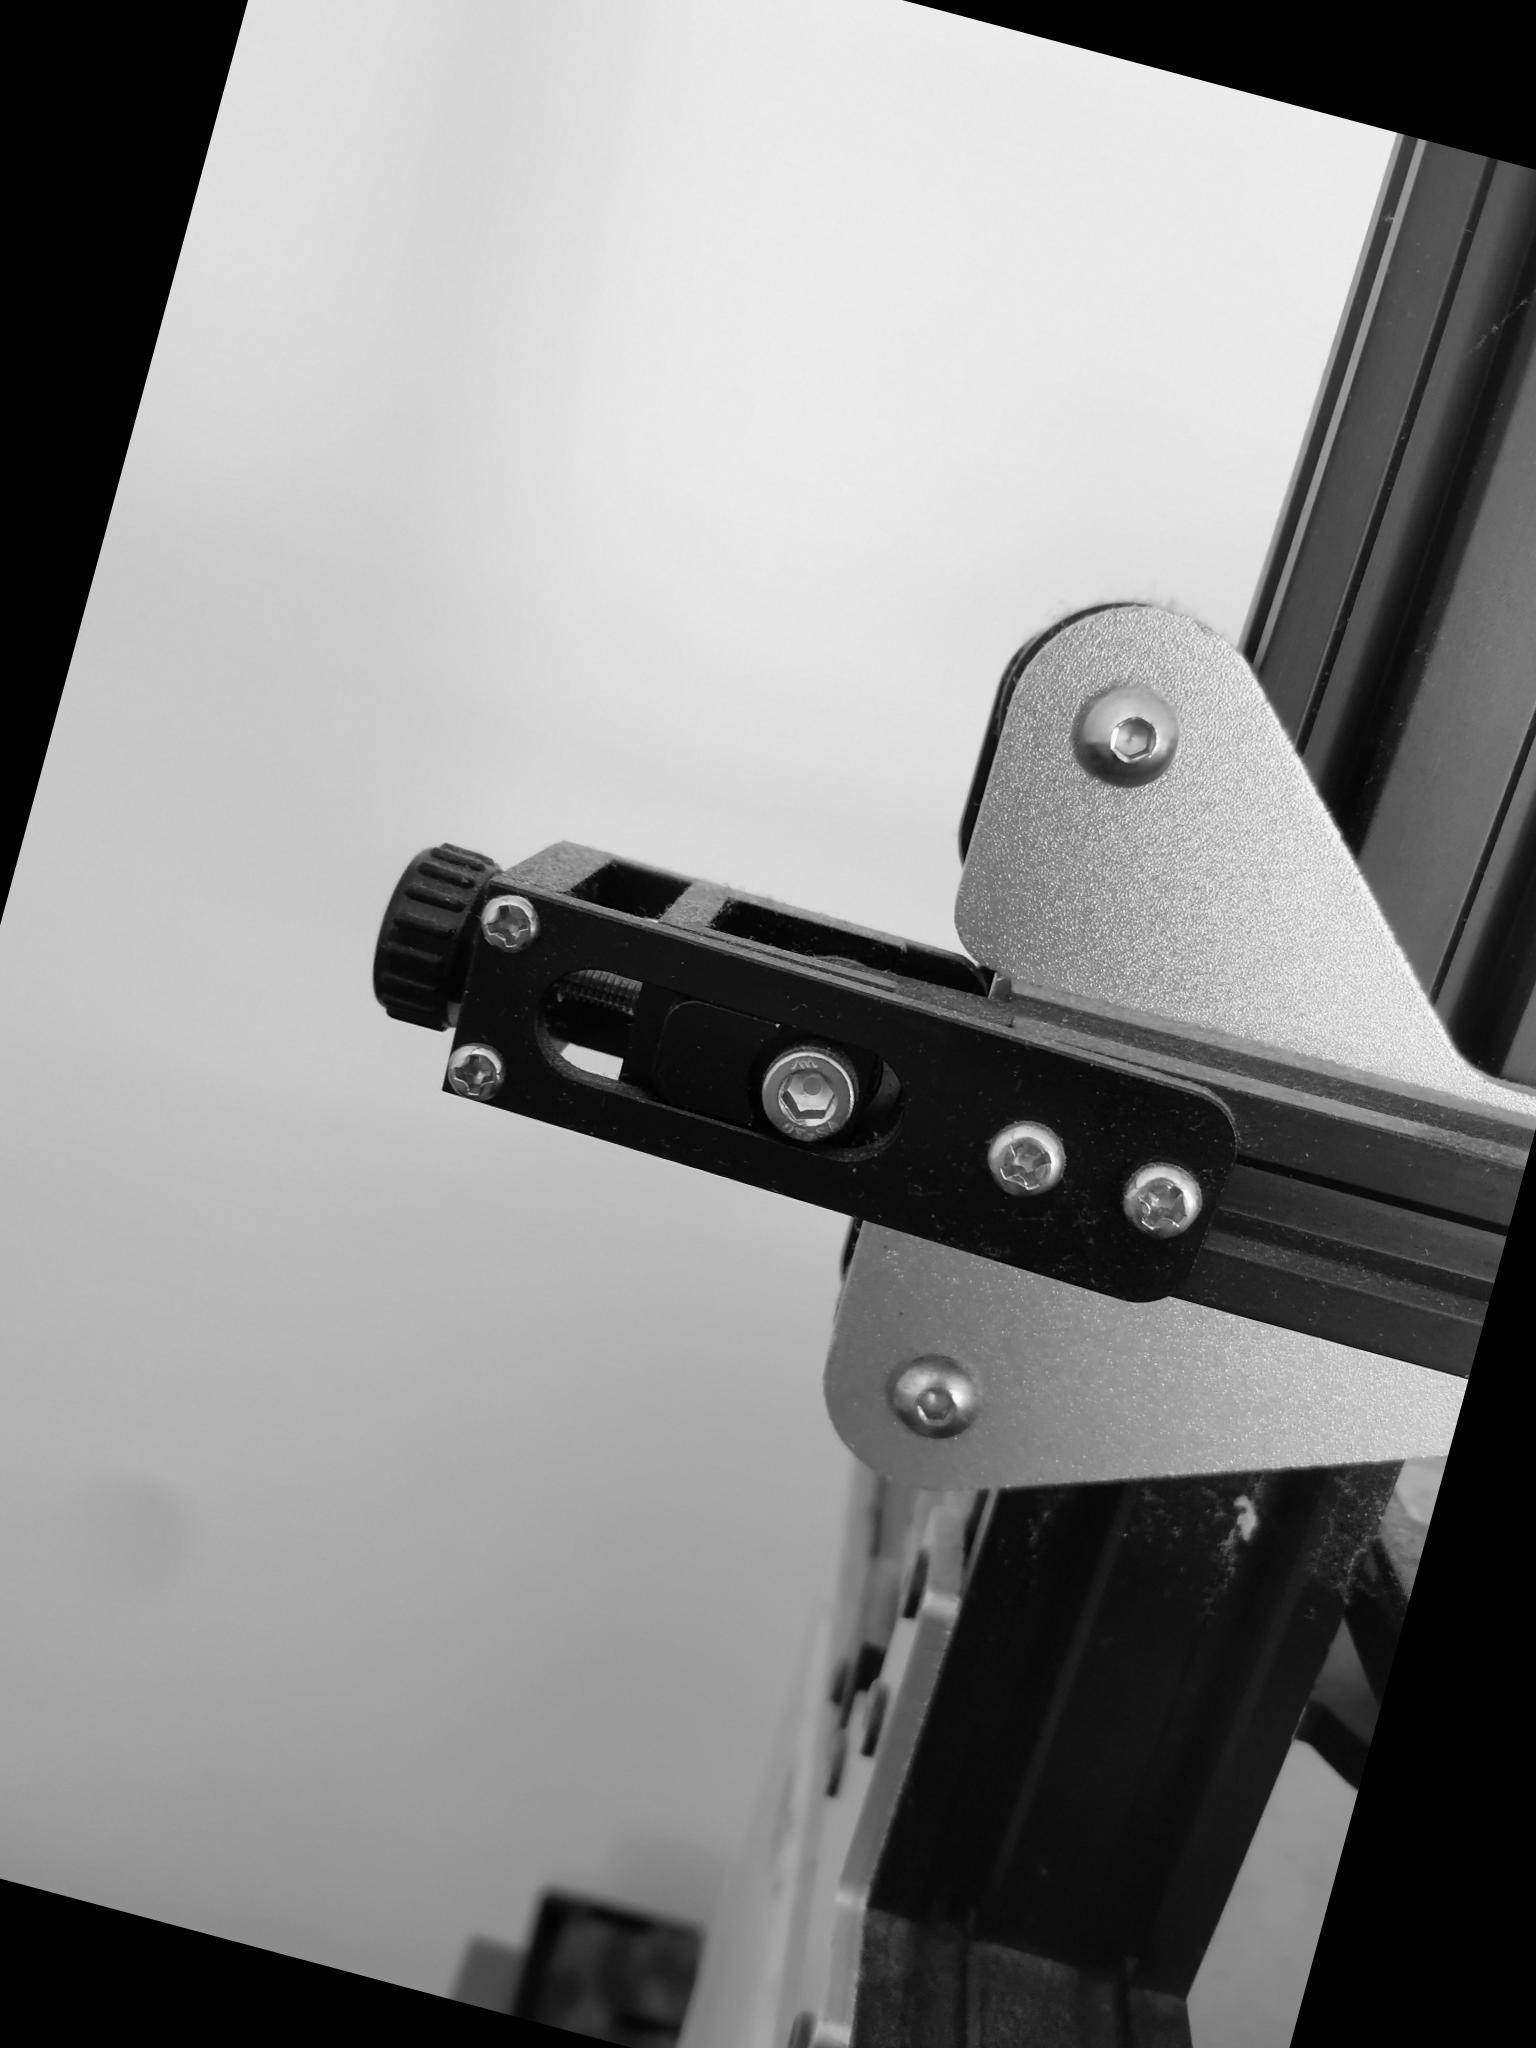allen: (1060, 665, 1196, 799), (746, 1040, 866, 1156)
philips-PZ: (975, 1108, 1077, 1209), (1114, 1158, 1214, 1256), (472, 882, 552, 964), (432, 1038, 510, 1112)
